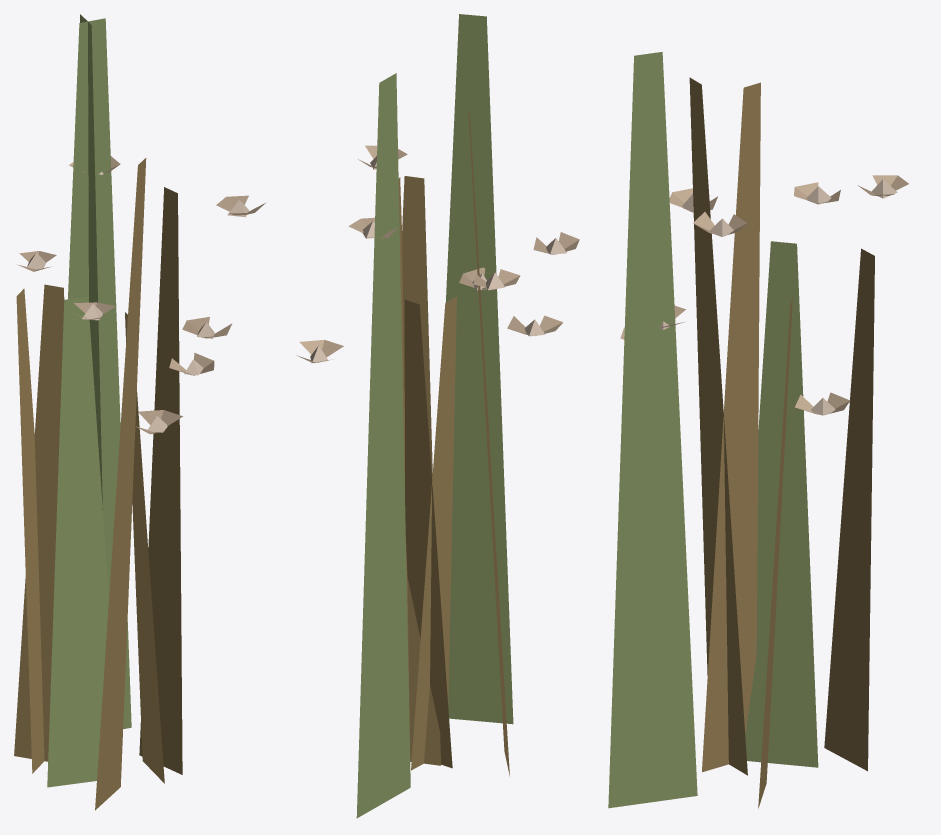
The model's file is shui.pucao@flowering__autumn.glb.
3 renders of one model, left to right at view 1: azimuth 30°, elevation 25°; view 2: azimuth 150°, elevation 25°; view 3: azimuth 270°, elevation 25°, orthographic. The views are drawn at different scales.
Visible parts, largest first — view 1: shui.pucao@flowering__autumn; view 2: shui.pucao@flowering__autumn; view 3: shui.pucao@flowering__autumn.
Boxes of the visible parts, left/top/right/bottom form: shui.pucao@flowering__autumn: left=14, top=14, right=266, bottom=810; shui.pucao@flowering__autumn: left=296, top=14, right=579, bottom=818; shui.pucao@flowering__autumn: left=608, top=52, right=908, bottom=808.
Bounding box in the file's own units: 0.6695 × 2.11 × 0.7877.
